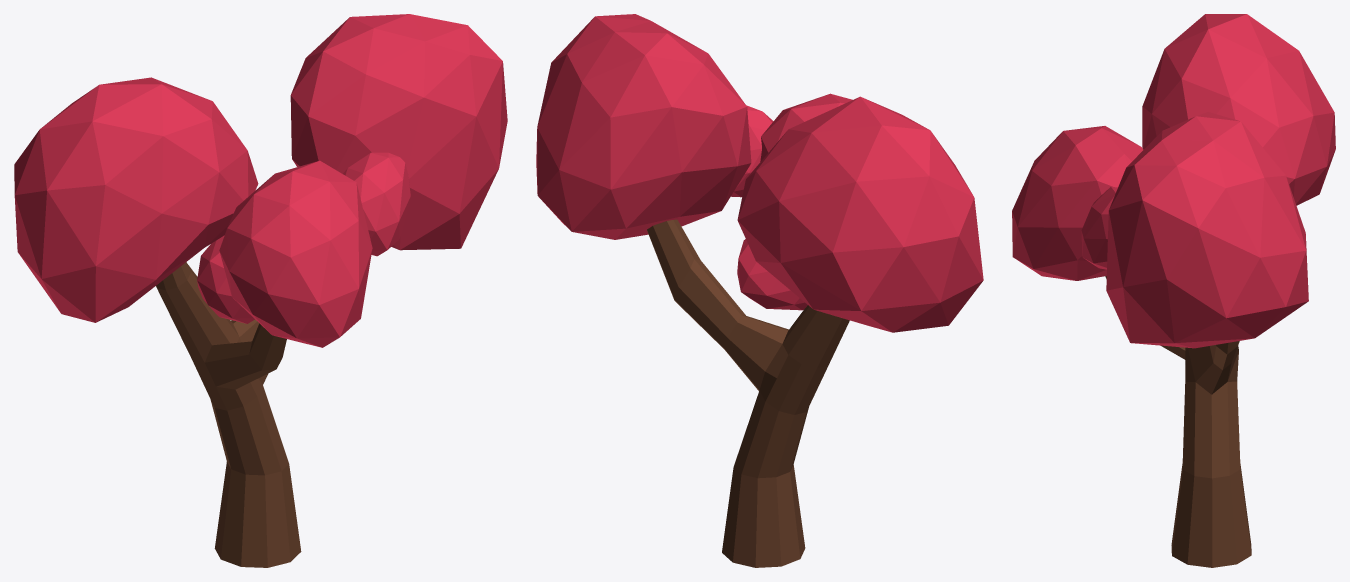
3 renders of one model, left to right at view 1: azimuth 30°, elevation 25°; view 2: azimuth 150°, elevation 25°; view 3: azimuth 270°, elevation 25°, orthographic. The views are drawn at different scales.
Parts seen in each view (by area): view 1: t2-purple; view 2: t2-purple; view 3: t2-purple.
Boxes of the visible parts, x1,y1,x2,y2 form: t2-purple: (14, 14, 507, 567); t2-purple: (536, 14, 983, 567); t2-purple: (1012, 14, 1335, 567).
Bounding box in the file's own units: 673 × 718 × 435.
